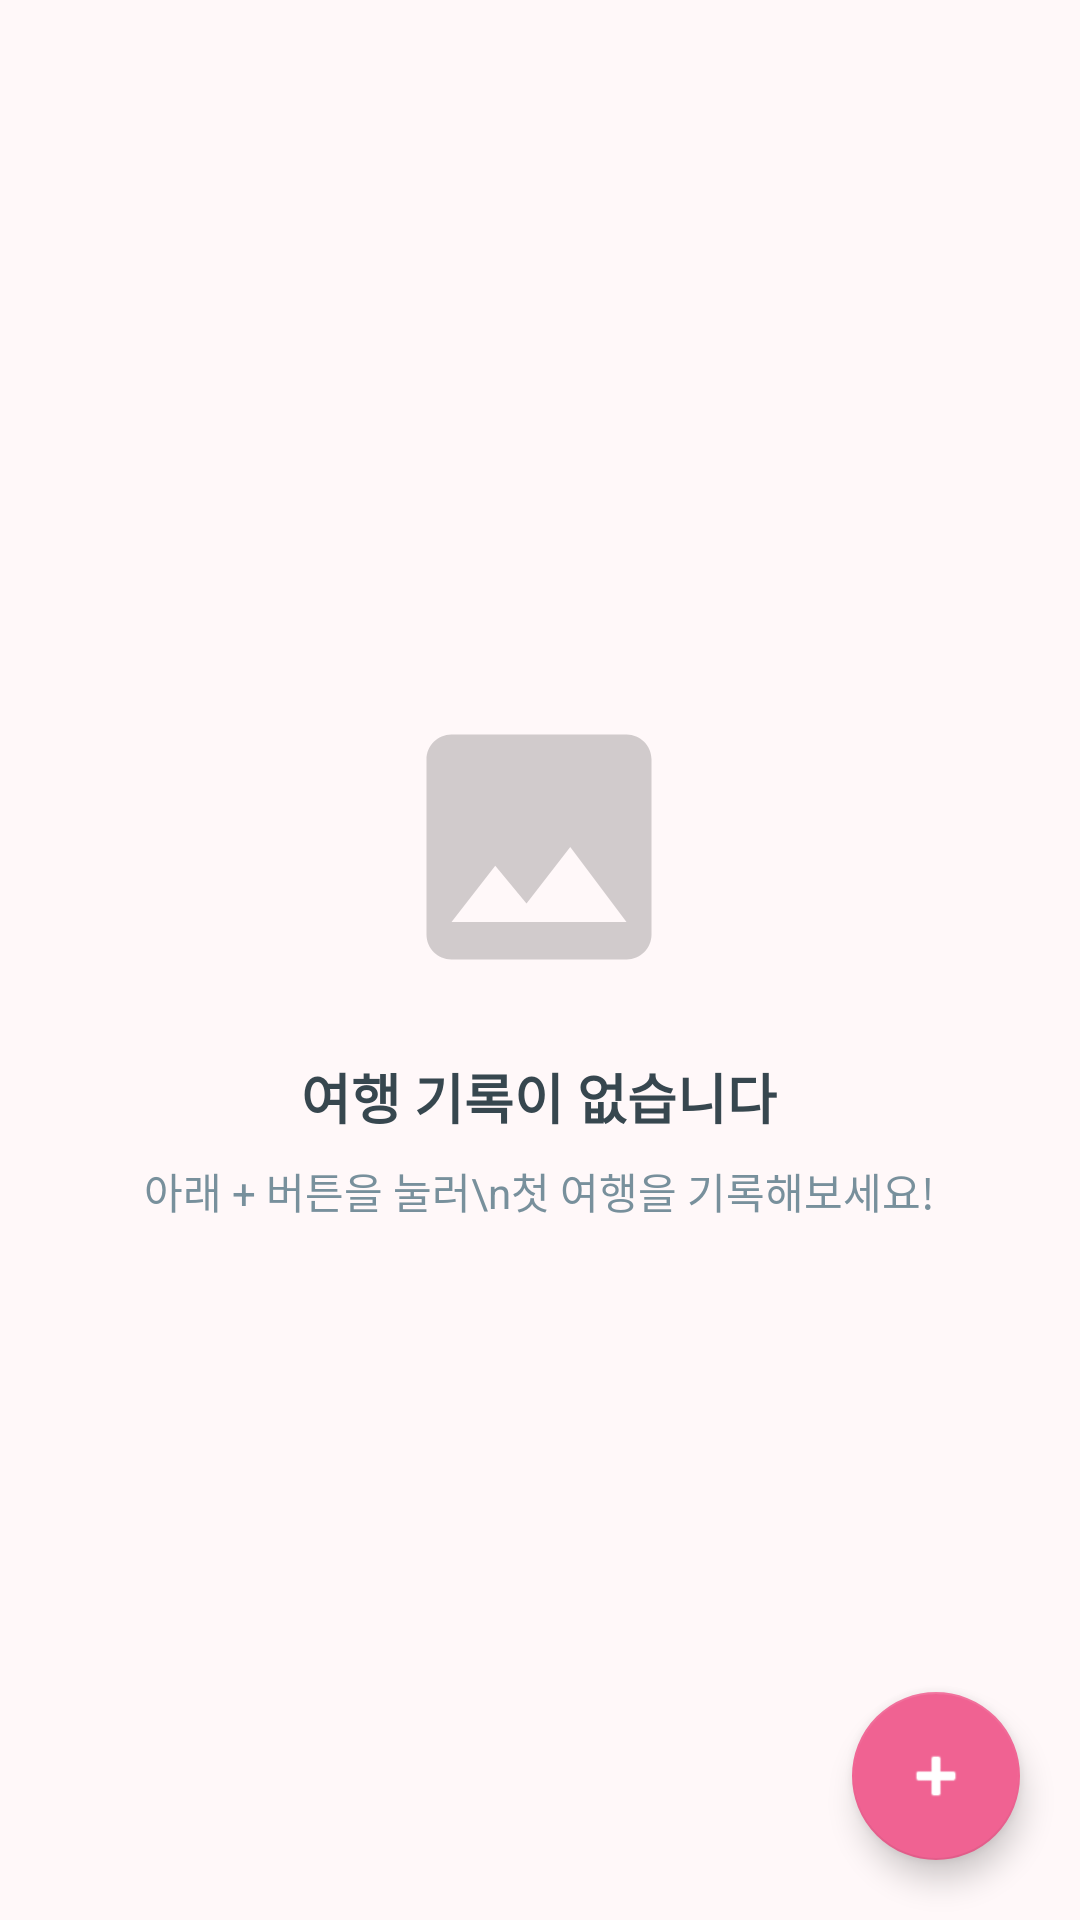

Icons on this 1080px×1920px Android screen, each with the point to tap as (x,y):
여행 기록 추가: (936,1776)
